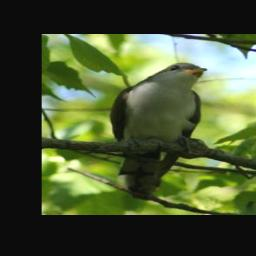Cuckoo: (108, 62, 207, 199)
